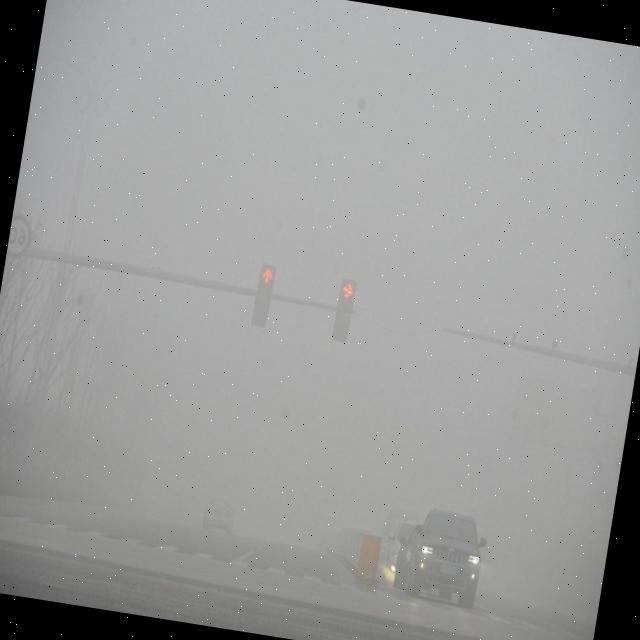car: (408, 507, 492, 606), (383, 514, 412, 579), (396, 520, 422, 592), (201, 492, 240, 536)
